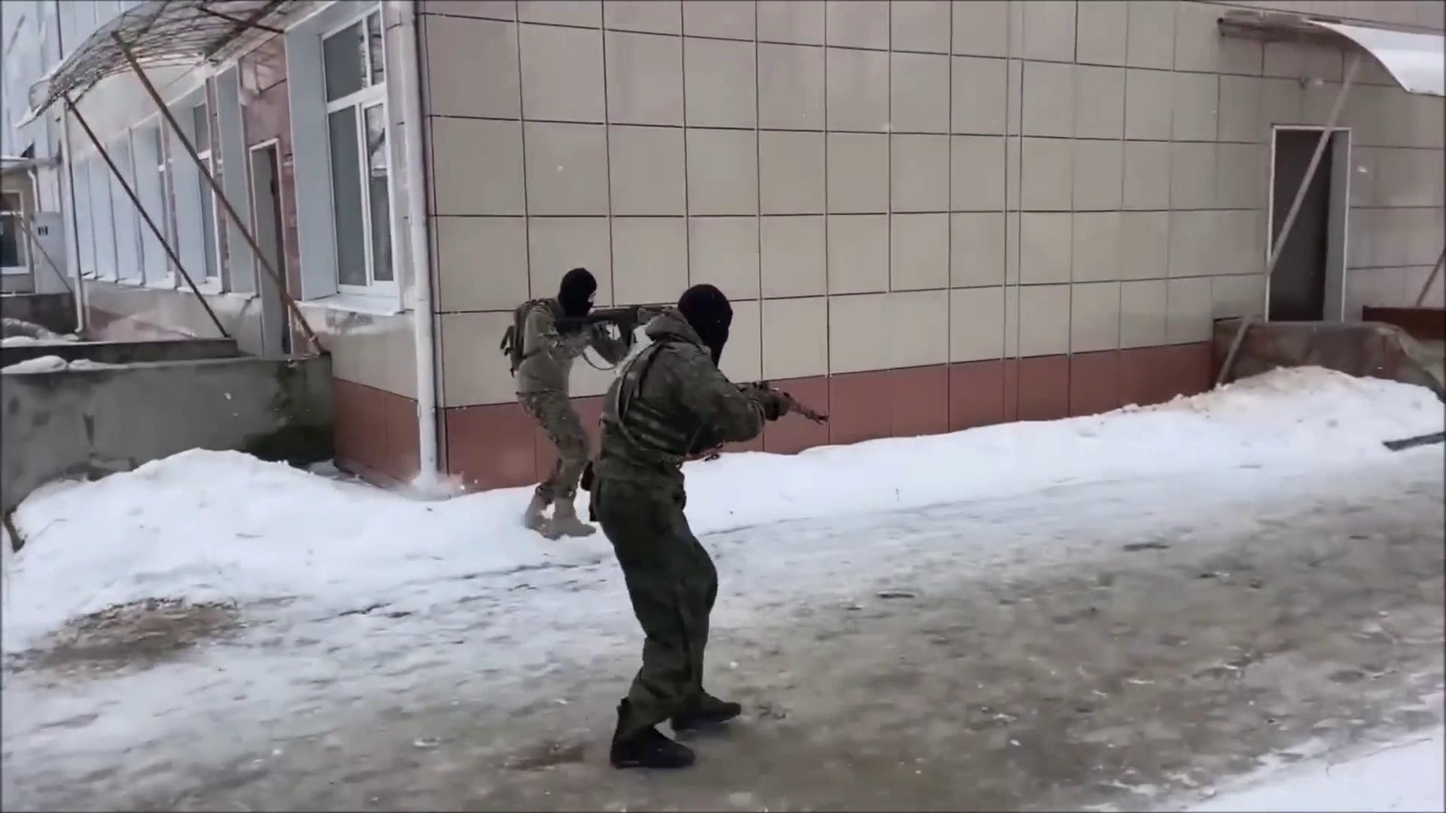person: (581, 282, 790, 771), (504, 265, 654, 540)
rifle: (735, 377, 831, 428)
